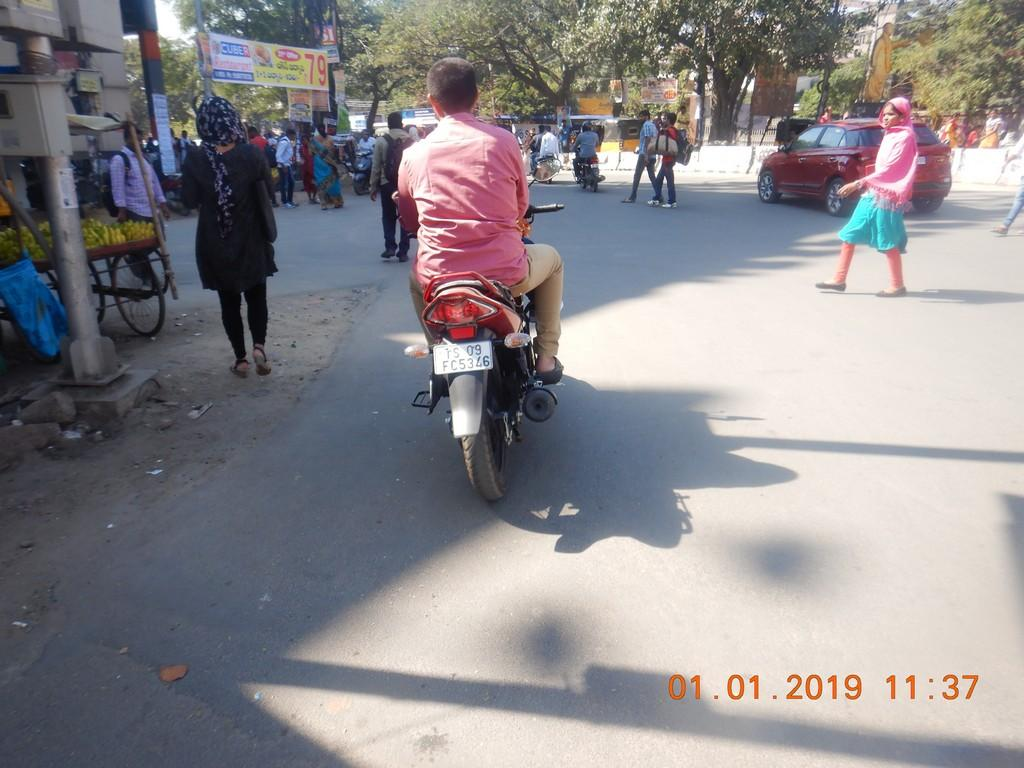plate: (435, 340, 492, 374)
